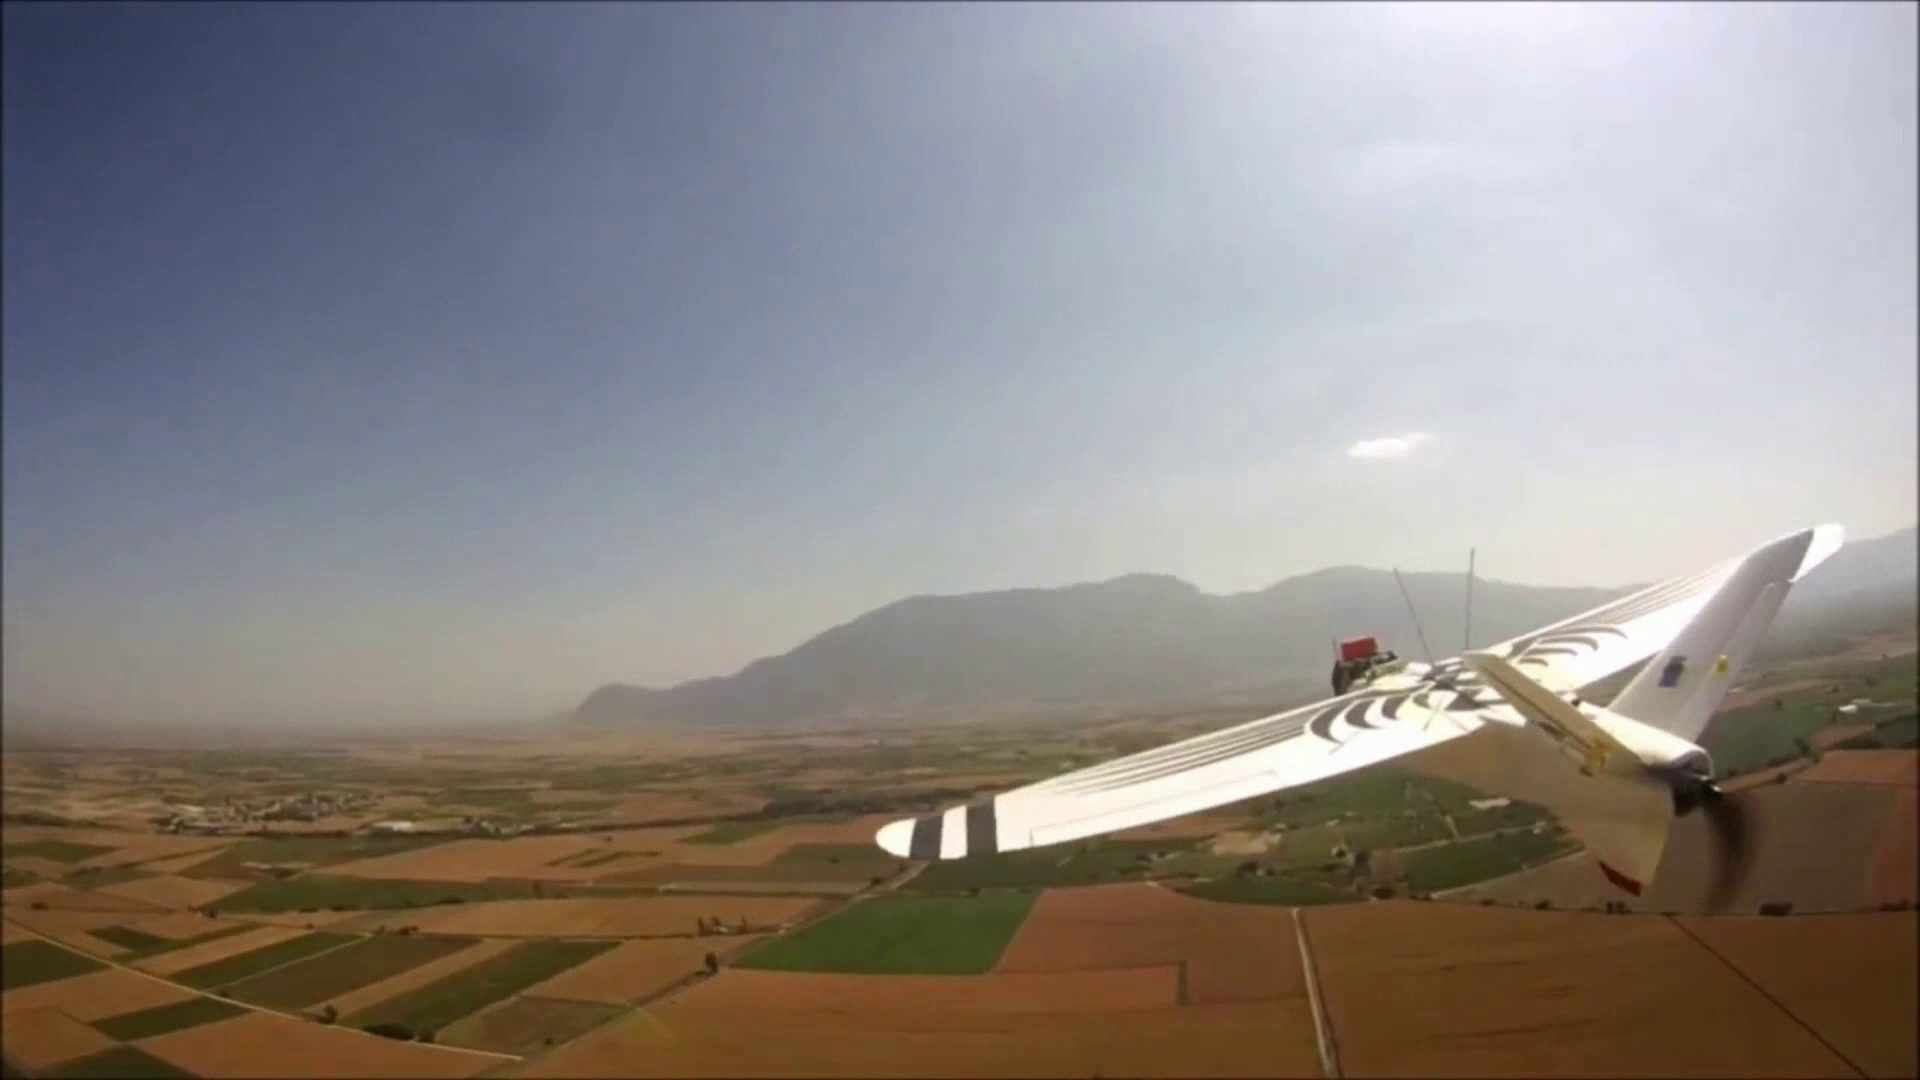airplane: (878, 524, 1915, 910)
